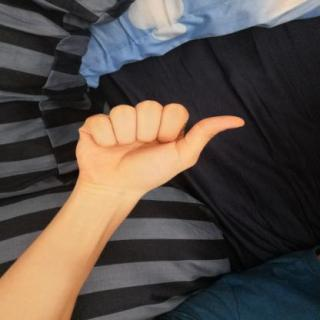DAD: (61, 92, 254, 202)
